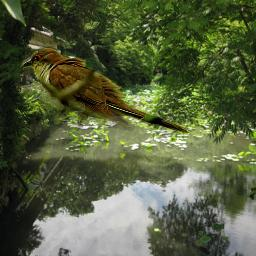Cuckoo: (20, 46, 192, 135)
